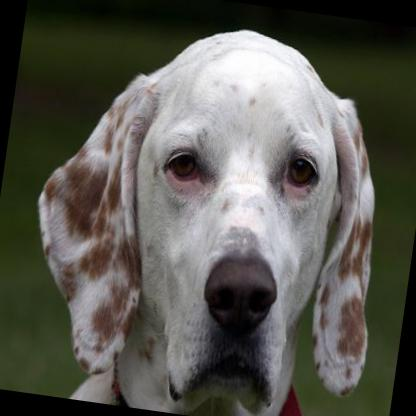English_setter: (8, 0, 409, 416)
